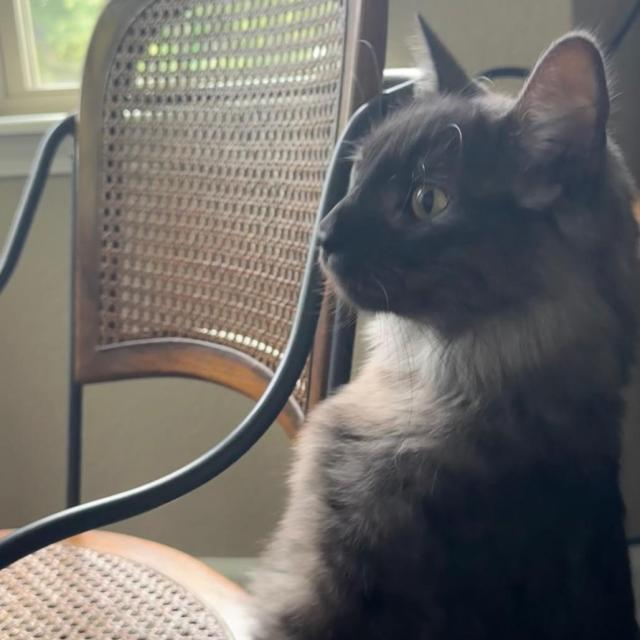maine_coon_cat: (301, 11, 634, 376)
